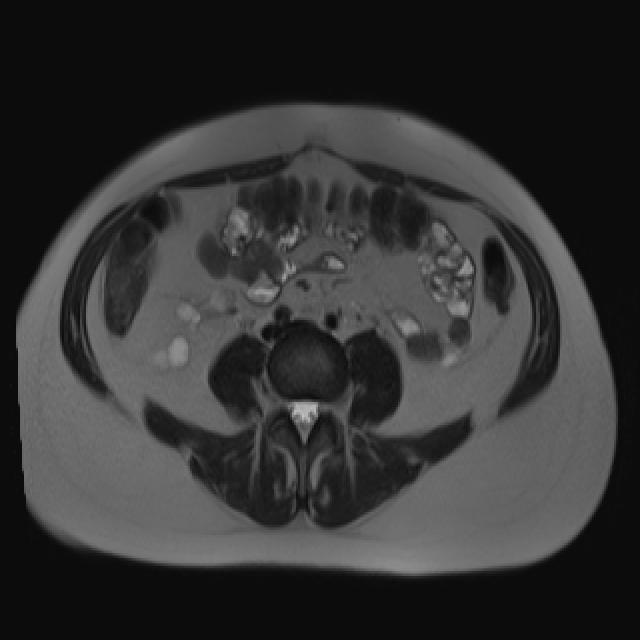sag: (151, 284, 238, 373)
